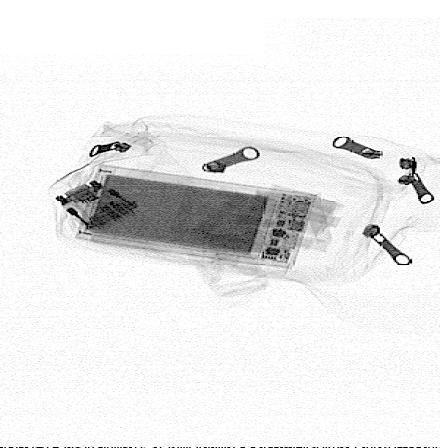Powerbank: (72, 161, 319, 270)
